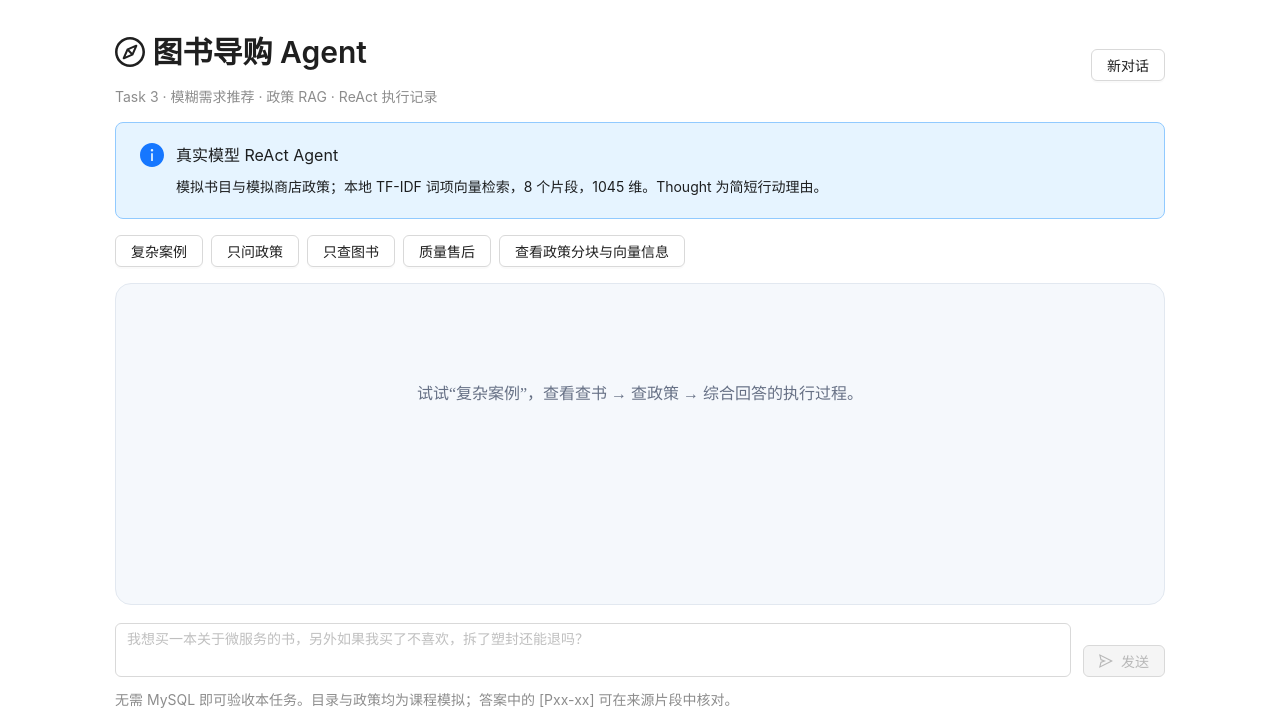
Scenario: 复杂案例展示回答、行动理由、两个工具和政策来源
Expected: the text "真实模型 ReAct Agent" is shown, [176,145,338,165]
Click the button "复杂案例".
click(159, 251)  # box [115,235,203,267]
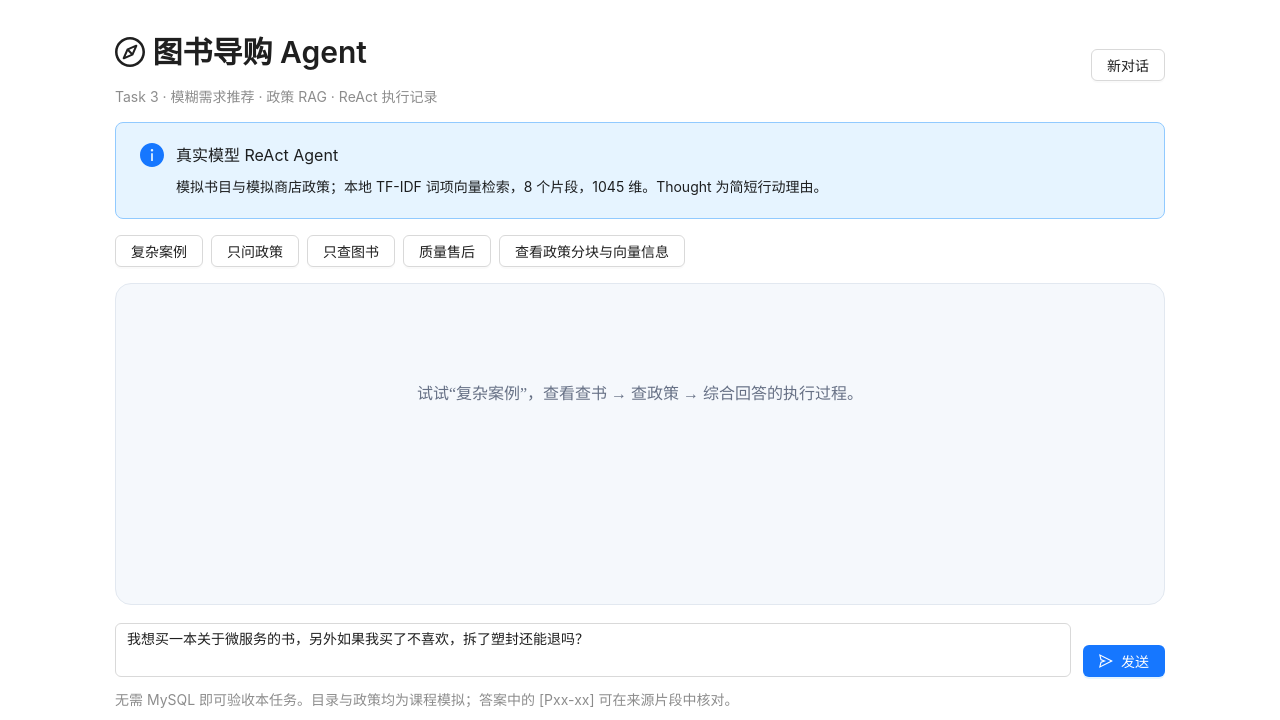
Click the button with aria-label "发送导购问题".
click(1124, 661)  # box [1083,645,1165,677]
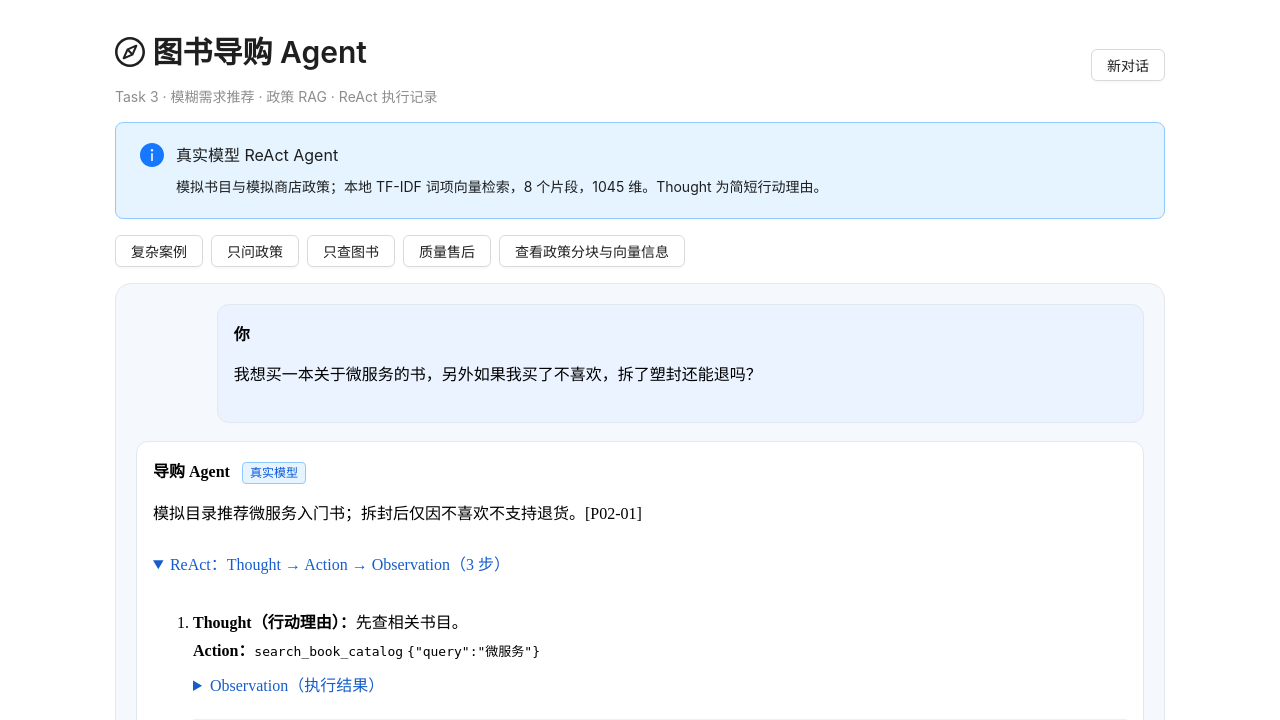
Expected: the text "模拟目录推荐微服务入门书；拆封后仅因不喜欢不支持退货。[P02-01]" is shown, [153,505,642,522]
Expected: the text "search_book_catalog" is shown, [254,644,403,659]
Expected: the text "Thought（行动理由）：先查相关书目。" is shown, [193,614,468,631]
